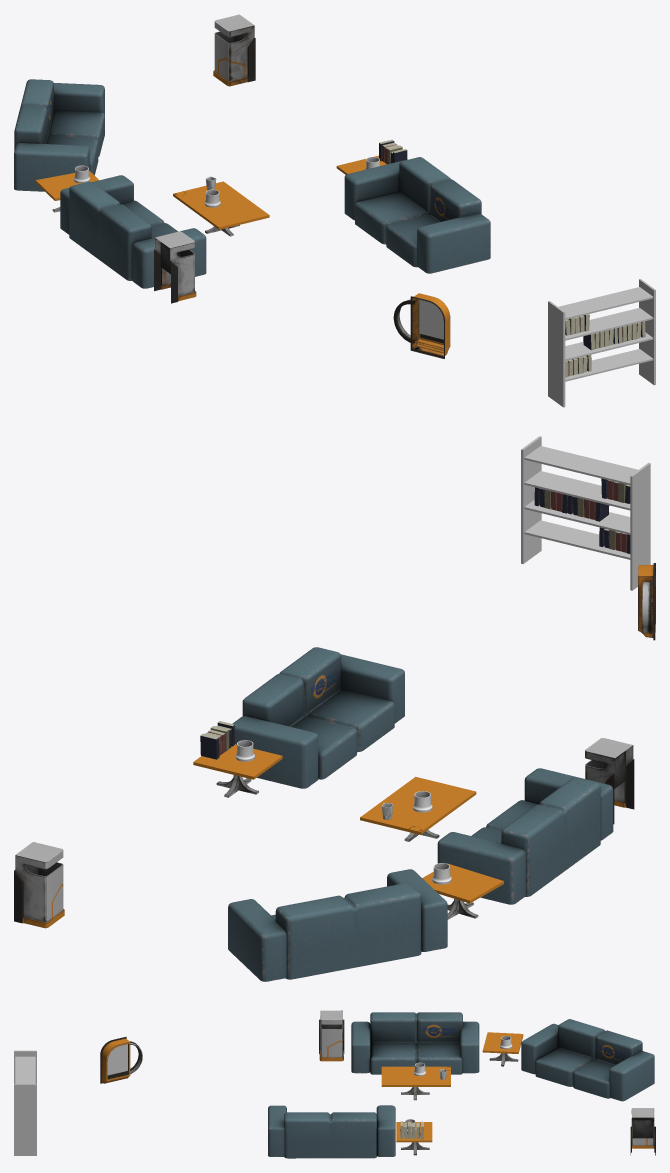
The model's file is Lounge.fbx.
3 views of the same model, one above another, from view 1: azimuth 30°, elevation 25°; view 2: azimuth 150°, elevation 25°; view 3: azimuth 270°, elevation 25° (orthographic). The views are drawn at different scales.
Visible parts, largest first — view 1: Cube.024, Cube.023, Cube.013, Cube.025, Bin.002, Bin.001, Table2.003, Wallmount, WallmountScreen, Table2.005; view 2: Cube.023, Cube.024, Cube.013, Cube.025, Bin.002, Table2.003, Bin.001, Table2.005, Table2.004, Wallmount, Cube.030; view 3: Cube.023, Cube.013, Cube.024, Cube.025, Table2.003, Bin.001, Bin.002, Wallmount, Table2.005, Table2.004, WallmountScreen, Cube.030.
Boxes of the visible parts, x1,y1,x2,y2 form: Cube.024: (344, 157, 490, 273); Cube.023: (14, 79, 104, 191); Cube.013: (60, 175, 206, 288); Cube.025: (548, 279, 655, 407); Bin.002: (213, 14, 255, 86); Bin.001: (154, 231, 196, 303); Table2.003: (173, 181, 269, 236); Wallmount: (393, 293, 450, 358); WallmountScreen: (419, 299, 443, 339); Table2.005: (35, 170, 98, 212); Cube.023: (228, 869, 447, 981); Cube.024: (232, 647, 404, 788); Cube.013: (437, 768, 613, 904); Cube.025: (521, 436, 650, 590); Bin.002: (14, 842, 64, 928); Table2.003: (360, 776, 476, 841); Bin.001: (585, 738, 634, 824); Table2.005: (422, 863, 503, 919); Table2.004: (193, 744, 282, 797); Wallmount: (638, 563, 655, 640); Cube.030: (200, 721, 234, 759); Cube.023: (521, 1019, 654, 1101); Cube.013: (351, 1012, 479, 1074); Cube.024: (268, 1105, 395, 1158); Cube.025: (14, 1050, 36, 1155); Table2.003: (381, 1066, 450, 1100); Bin.001: (319, 1010, 344, 1061); Bin.002: (630, 1108, 655, 1155); Wallmount: (100, 1037, 142, 1083); Table2.005: (482, 1032, 523, 1066); Table2.004: (396, 1122, 432, 1155); WallmountScreen: (107, 1044, 127, 1075); Cube.030: (400, 1121, 423, 1139).
Size of the model in its own units: 721 by 218 by 1780.
